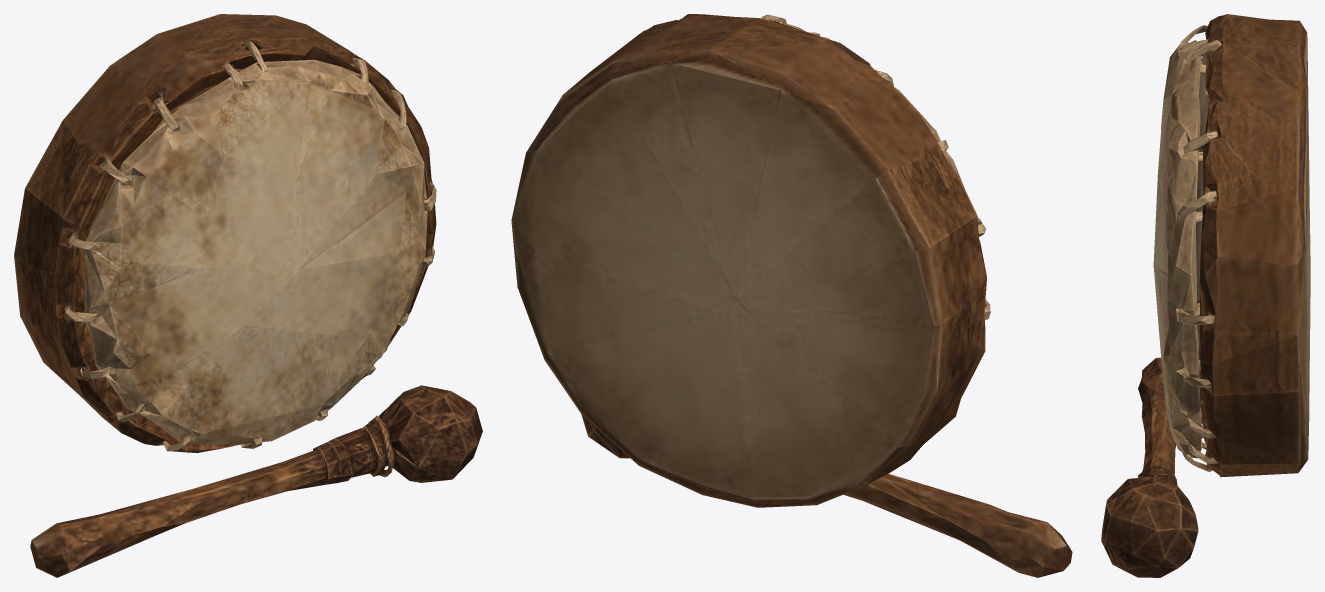
The model's file is wedding-frame-drum.glb.
3 renders of one model, left to right at view 1: azimuth 30°, elevation 25°; view 2: azimuth 150°, elevation 25°; view 3: azimuth 270°, elevation 25°, orthographic. The views are drawn at different scales.
Visible parts, largest first — view 1: output_unwrapped; view 2: output_unwrapped; view 3: output_unwrapped.
Part boxes in pixels (left/top/right/bottom): output_unwrapped: left=14, top=14, right=482, bottom=577; output_unwrapped: left=511, top=14, right=1072, bottom=577; output_unwrapped: left=1101, top=14, right=1310, bottom=577.
Size of the model in its own units: 0.3928 by 0.4 by 0.1607.
1 material, 1 textured.
